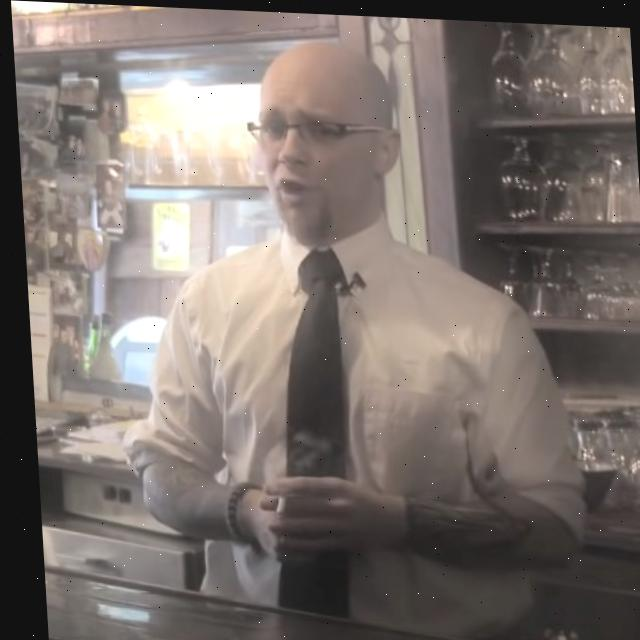cigarette: (268, 495, 280, 513)
